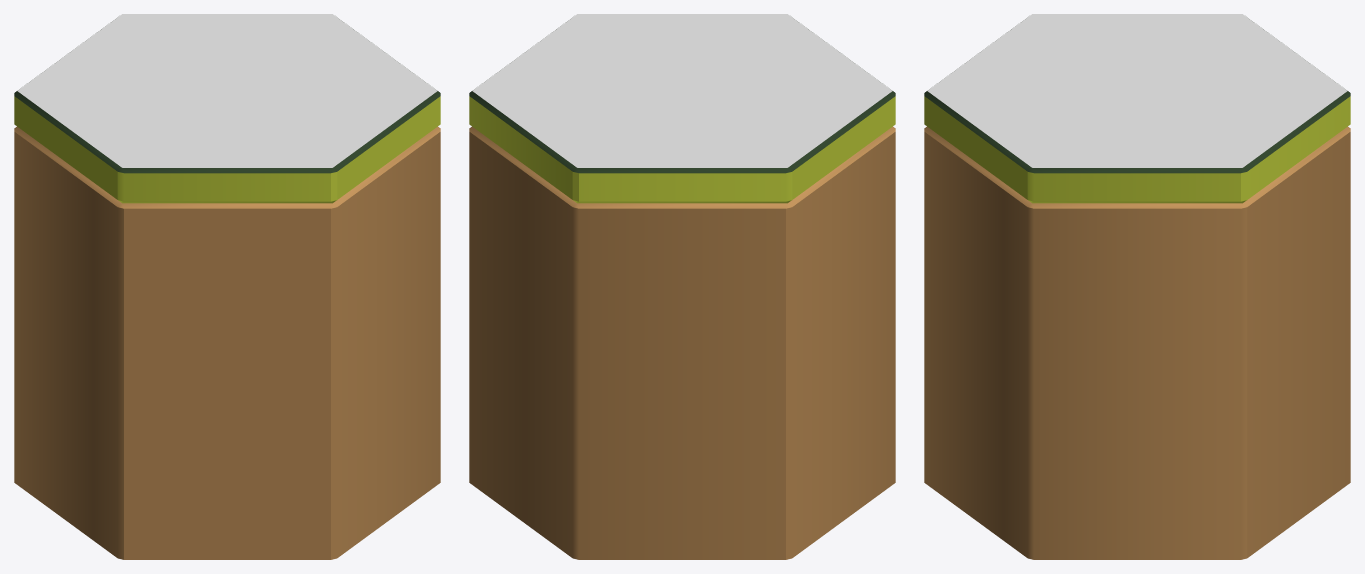
Rendered from Tile (v.3).fbx.
3 views of the same model, side by side, from view 1: azimuth 30°, elevation 25°; view 2: azimuth 150°, elevation 25°; view 3: azimuth 270°, elevation 25° (orthographic).
Parts seen in each view (by area): view 1: tile; view 2: tile; view 3: tile.
Boxes of the visible parts, x1,y1,x2,y2 form: tile: [14, 14, 440, 559]; tile: [469, 14, 895, 559]; tile: [924, 14, 1350, 559].
Size of the model in its own units: 173 by 200 by 198.
